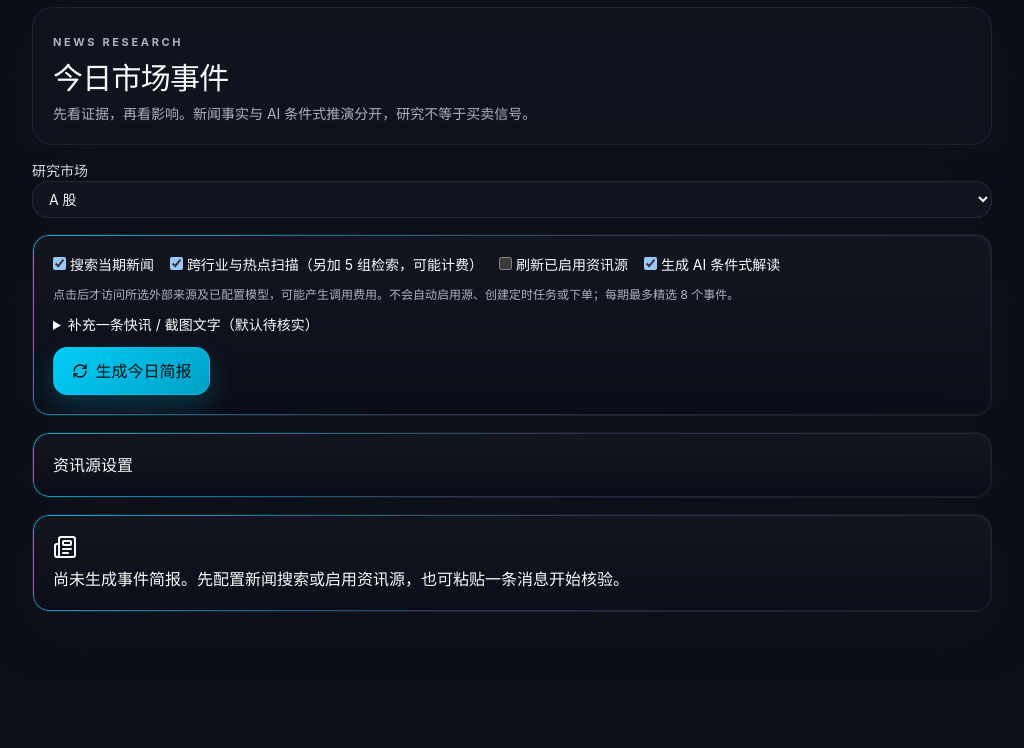
Scenario: MarketEventsPage › shows omitted candidate sources and frozen coverage audit without claiming a buy
Expected: the text "尚未生成事件简报。先配置新闻搜索或启用资讯源，也可粘贴一条消息开始核验。" is shown, [53,569,629,589]
Expected: the text "跨行业与热点扫描（另加 5 组检索，可能计费）" is shown, [170,255,483,275]
Click the button "生成今日简报" at (132, 371), box [53,347,210,395]
(page scrolled)
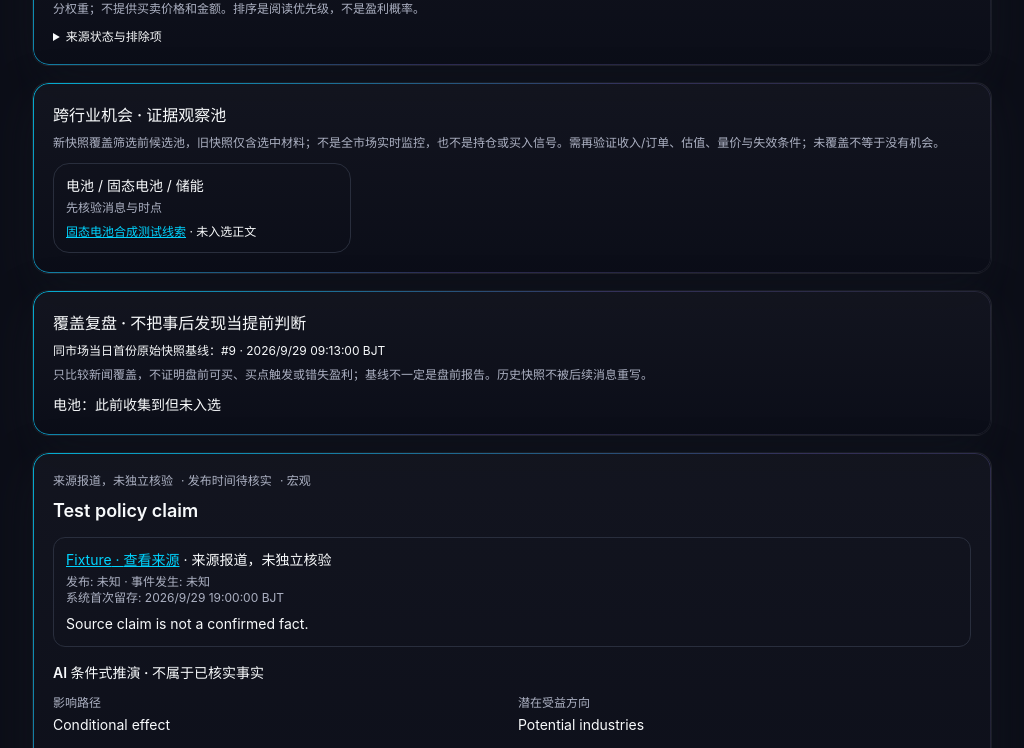
Now the link "固态电池合成测试线索" is shown, box [66,224,186,239]
Now the text "· 未入选正文" is shown, box [186,224,256,239]
Now the list item "电池：此前收集到但未入选" is shown, box [53,396,221,413]
